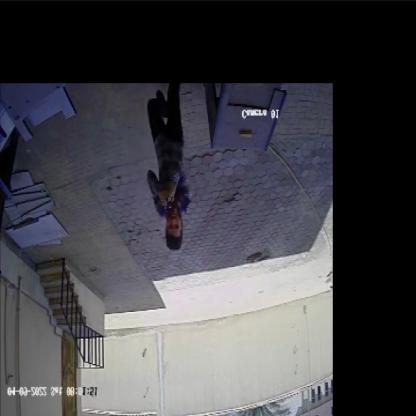handgun: (158, 191, 178, 221)
